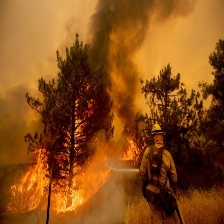fire: (5, 152, 96, 217), (116, 136, 153, 167)
smoke: (90, 1, 195, 103)
